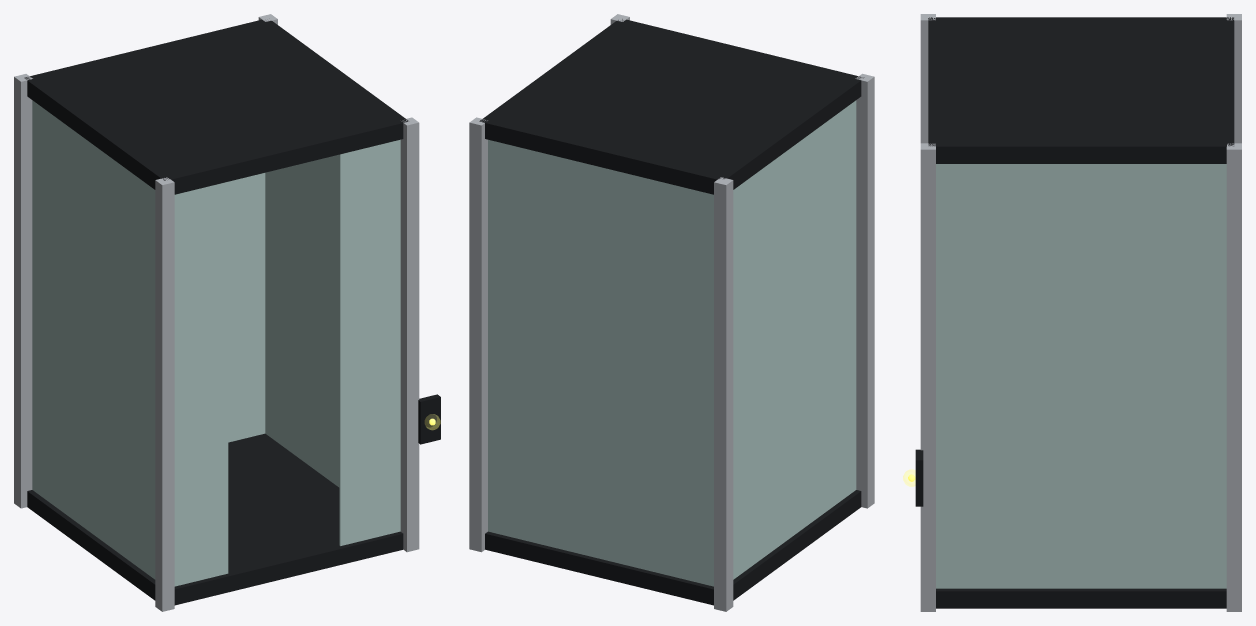
The model's file is city_lift.glb.
3 renders of one model, left to right at view 1: azimuth 30°, elevation 25°; view 2: azimuth 150°, elevation 25°; view 3: azimuth 270°, elevation 25°, orthographic. The views are drawn at different scales.
Visible parts, largest first — view 1: CityLift_GlassL, CityLift_Ring3.85, CityLift_DoorR, CityLift_GlassR, CityLift_DoorL, CityLift_Ring0.0, CityLift_GlassBack, CityLift_Post-1-1, CityLift_Post1-1, CityLift_Post-11, CityLift_CallPlate; view 2: CityLift_GlassBack, CityLift_GlassL, CityLift_Ring3.85, CityLift_Post-11, CityLift_Post11, CityLift_Post-1-1, CityLift_Ring0.0; view 3: CityLift_GlassR, CityLift_Ring3.85, CityLift_Post11, CityLift_Post1-1, CityLift_Ring0.0, CityLift_Post-1-1, CityLift_Post-11, CityLift_GlassBack, CityLift_DoorR, CityLift_CallPlate.
Part boxes in pixels (<box>): CityLift_GlassL: <box>32,101,155,579</box>; CityLift_Ring3.85: <box>24,19,408,194</box>; CityLift_DoorR: <box>339,140,400,545</box>; CityLift_GlassR: <box>265,146,400,531</box>; CityLift_DoorL: <box>174,182,228,586</box>; CityLift_Ring0.0: <box>27,433,403,605</box>; CityLift_GlassBack: <box>32,100,265,489</box>; CityLift_Post-1-1: <box>155,177,174,611</box>; CityLift_Post1-1: <box>400,117,419,552</box>; CityLift_Post-11: <box>14,74,32,508</box>; CityLift_CallPlate: <box>418,394,440,444</box>; CityLift_GlassBack: <box>488,140,713,586</box>; CityLift_GlassL: <box>733,100,856,579</box>; CityLift_Ring3.85: <box>479,19,864,194</box>; CityLift_Post-11: <box>714,177,733,611</box>; CityLift_Post11: <box>469,117,487,552</box>; CityLift_Post-1-1: <box>855,73,874,508</box>; CityLift_Ring0.0: <box>485,490,861,605</box>; CityLift_GlassR: <box>936,164,1226,588</box>; CityLift_Ring3.85: <box>928,17,1234,163</box>; CityLift_Post11: <box>1226,143,1241,611</box>; CityLift_Post1-1: <box>920,143,935,611</box>; CityLift_Ring0.0: <box>936,588,1226,608</box>; CityLift_Post-1-1: <box>920,14,935,143</box>; CityLift_Post-11: <box>1226,14,1241,143</box>; CityLift_GlassBack: <box>1225,164,1226,588</box>; CityLift_DoorR: <box>936,164,937,588</box>; CityLift_CallPlate: <box>915,449,923,506</box>.
Size of the model in its own units: 2.71 by 4 by 2.66.
